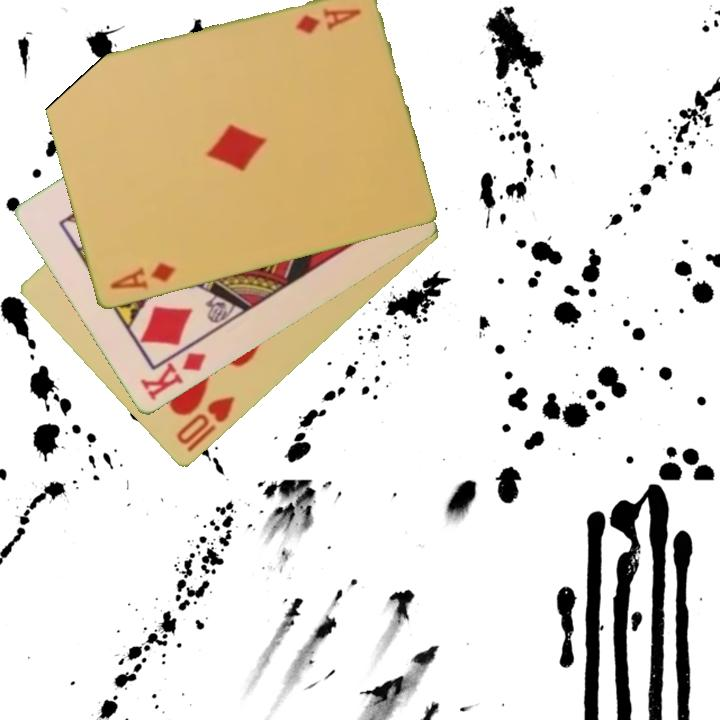10h: (172, 393, 238, 449)
Ad: (105, 259, 178, 293), (291, 5, 365, 37)
Kd: (136, 338, 209, 404)
